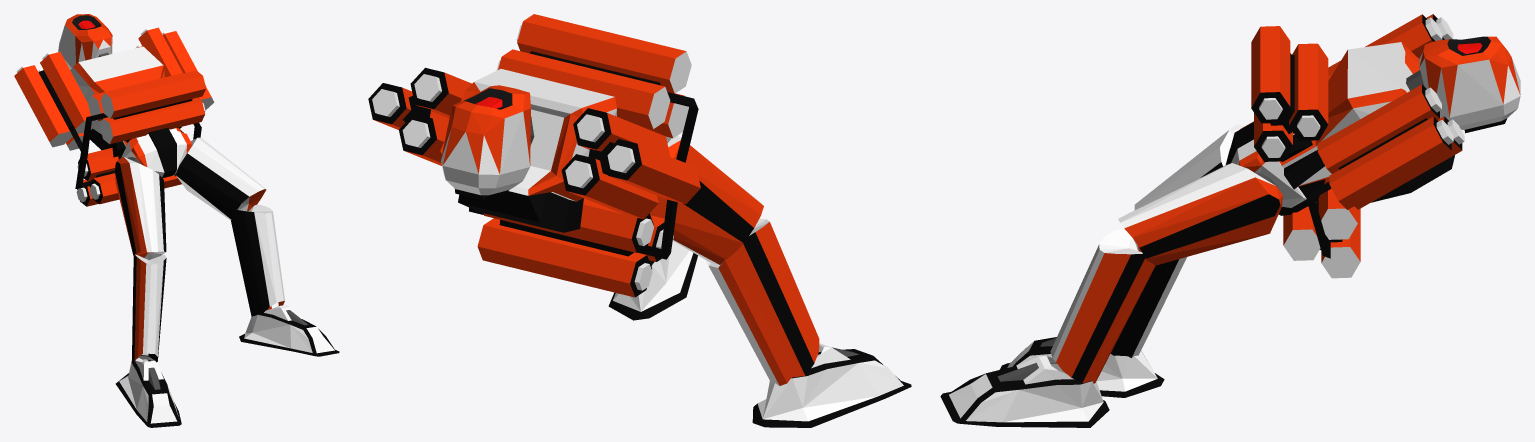
Rendered from robots_000003.obj.
The picture shows the model from 3 angles, left to right: view 1: azimuth 30°, elevation 25°; view 2: azimuth 150°, elevation 25°; view 3: azimuth 270°, elevation 25°; orthographic projection. The views are drawn at different scales.
Parts seen in each view (by area): view 1: Cylinder.004_Cylinder.006, R_Shin.002_Cube.029, R_Thigh.002_Cube.027, R_Thigh_Cube.005, Chest_plate_Cube.004, R_Shin_Cube.007, R_Foot.002_Cube.035, R_Foot_Cube, Pelvis_Cube.006, Head_base.002_Cube.030; view 2: Cylinder.004_Cylinder.006, Chest_plate_Cube.004, R_Shin_Cube.007, Head_base.002_Cube.030, R_Foot_Cube, R_Thigh_Cube.005, R_Foot.002_Cube.035; view 3: Cylinder.004_Cylinder.006, R_Thigh.002_Cube.027, R_Foot.002_Cube.035, R_Shin.002_Cube.029, Chest_plate_Cube.004, Head_base.002_Cube.030, R_Foot_Cube, R_Shin_Cube.007, Pelvis_Cube.006, R_Thigh_Cube.005.
Part boxes in pixels (x1,y1,x2,y2): Cylinder.004_Cylinder.006: (14, 27, 214, 206); R_Shin.002_Cube.029: (231, 204, 284, 316); R_Thigh.002_Cube.027: (176, 137, 266, 220); R_Thigh_Cube.005: (115, 157, 166, 259); Chest_plate_Cube.004: (70, 46, 183, 157); R_Shin_Cube.007: (132, 254, 166, 362); R_Foot.002_Cube.035: (239, 305, 339, 356); R_Foot_Cube: (115, 355, 181, 427); Pelvis_Cube.006: (118, 128, 192, 178); Head_base.002_Cube.030: (58, 14, 112, 69); Cylinder.004_Cylinder.006: (368, 14, 700, 297); Chest_plate_Cube.004: (440, 69, 616, 232); R_Shin_Cube.007: (706, 218, 819, 385); Head_base.002_Cube.030: (441, 85, 530, 200); R_Foot_Cube: (752, 343, 911, 427); R_Thigh_Cube.005: (649, 135, 763, 264); R_Foot.002_Cube.035: (608, 241, 697, 320); Cylinder.004_Cylinder.006: (1251, 14, 1464, 278); R_Thigh.002_Cube.027: (1118, 163, 1282, 265); R_Foot.002_Cube.035: (940, 356, 1109, 427); R_Shin.002_Cube.029: (1050, 229, 1155, 383); Chest_plate_Cube.004: (1280, 42, 1464, 202); Head_base.002_Cube.030: (1419, 36, 1520, 133); R_Foot_Cube: (999, 337, 1164, 397); R_Shin_Cube.007: (1110, 257, 1186, 357); Pelvis_Cube.006: (1225, 121, 1325, 215); R_Thigh_Cube.005: (1134, 124, 1244, 209).
Size of the model in its own units: 1.5 by 2.14 by 2.86.
